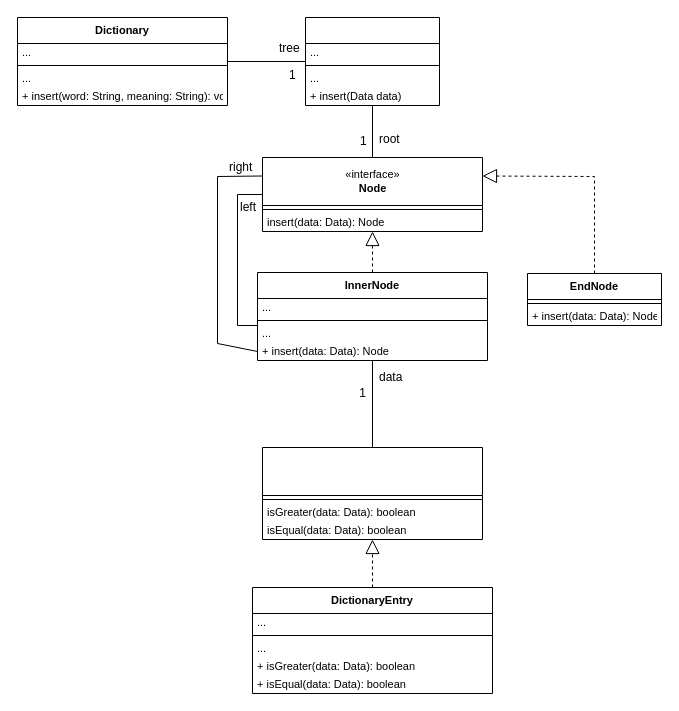
This 679x711 diagram has some shape labels left out. Each missing label, with the box of its shape:
BinaryTree: (304, 16, 440, 106)
«interface» Data: (262, 446, 482, 540)
